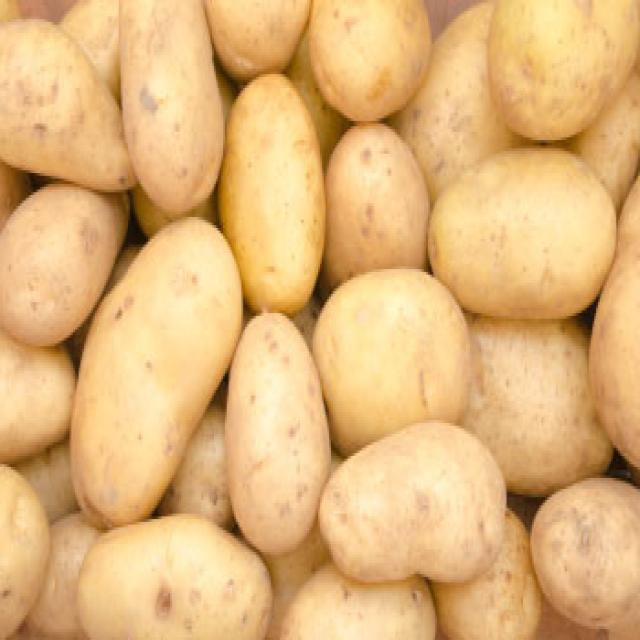Potato: (71, 218, 240, 525), (429, 148, 615, 319), (319, 421, 505, 582), (313, 269, 470, 453), (219, 73, 325, 315), (225, 314, 331, 555), (79, 518, 273, 640), (122, 0, 224, 217), (319, 122, 429, 296)
